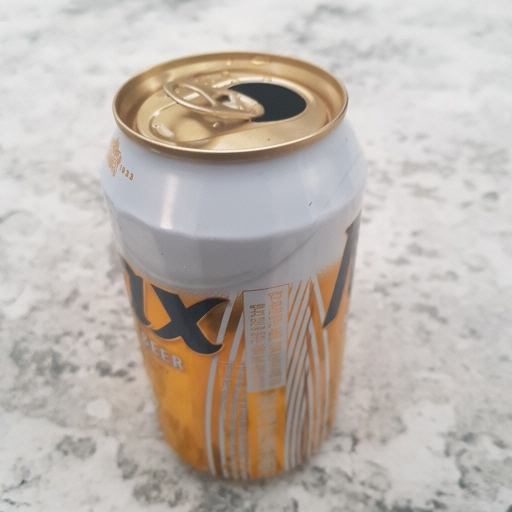Metal_0: (97, 50, 368, 481)
